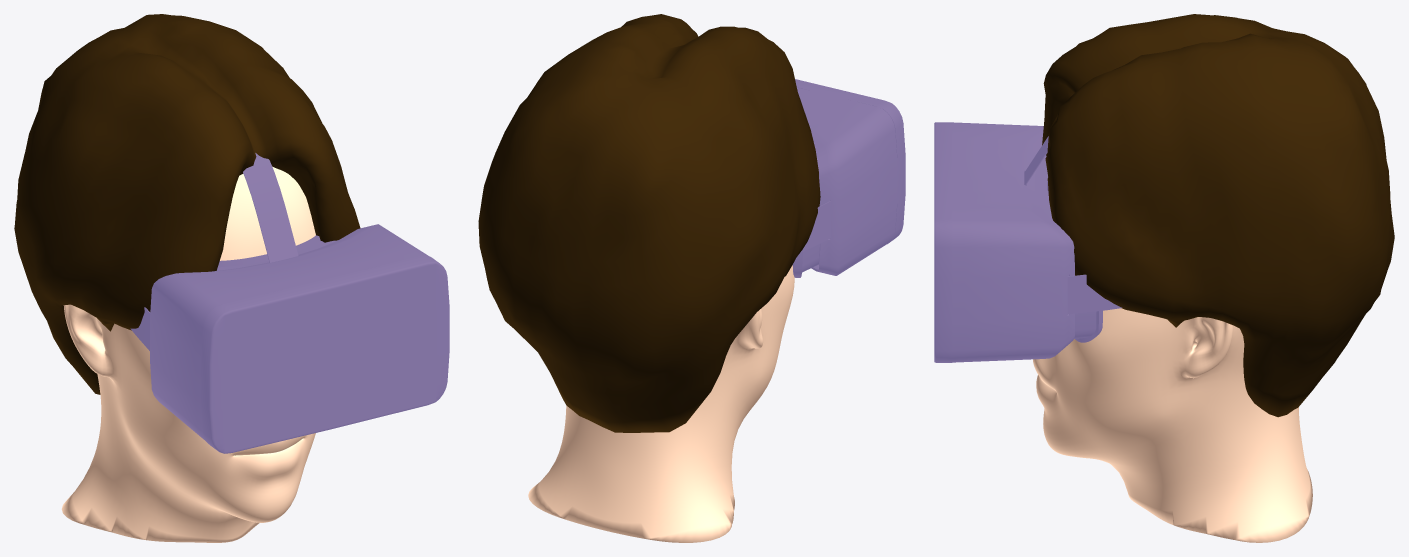
File: Head.fbx
3 views of the same model, side by side, from view 1: azimuth 30°, elevation 25°; view 2: azimuth 150°, elevation 25°; view 3: azimuth 270°, elevation 25° (orthographic). The views are drawn at different scales.
Visible parts, largest first — view 1: Hair_01_low, VR_simple, Head_1; view 2: Hair_01_low, Head_1, VR_simple; view 3: Hair_01_low, Head_1, VR_simple.
Part boxes in pixels (x1,y1,x2,y2): Hair_01_low: (14,14,360,394); VR_simple: (130,153,449,453); Head_1: (61,166,315,542); Hair_01_low: (478,14,820,432); Head_1: (528,265,794,542); VR_simple: (792,79,905,277); Hair_01_low: (1042,14,1394,417); Head_1: (1033,308,1312,542); VR_simple: (934,122,1121,362).
Size of the model in its own units: 12.96 by 21.93 by 19.67.
